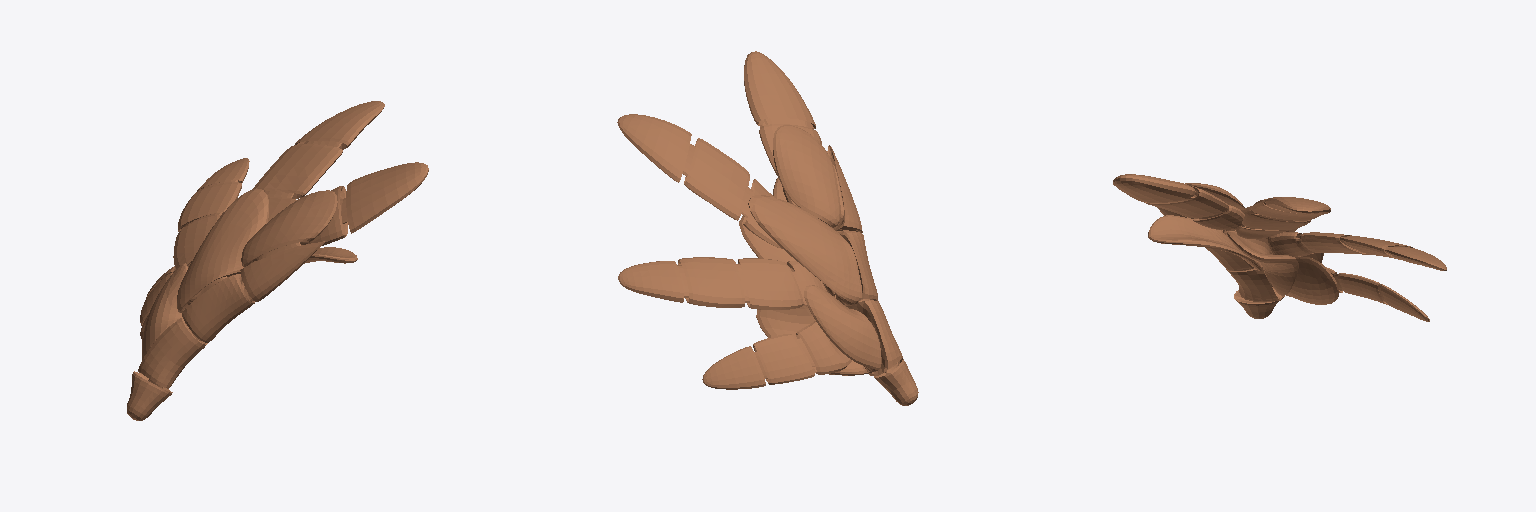
Rendered from leftwing_open.obj.
3 renders of one model, left to right at view 1: azimuth 30°, elevation 25°; view 2: azimuth 150°, elevation 25°; view 3: azimuth 270°, elevation 25°, orthographic.
Visible parts, largest first — view 1: vn_alternatedash_left_wing_compo_spread; view 2: vn_alternatedash_left_wing_compo_spread; view 3: vn_alternatedash_left_wing_compo_spread.
Part boxes in pixels (x1,y1,x2,y2): vn_alternatedash_left_wing_compo_spread: (127,101,428,420); vn_alternatedash_left_wing_compo_spread: (617,51,918,405); vn_alternatedash_left_wing_compo_spread: (1113,174,1446,321).
Size of the model in its own units: 21.25 by 18.43 by 22.31.